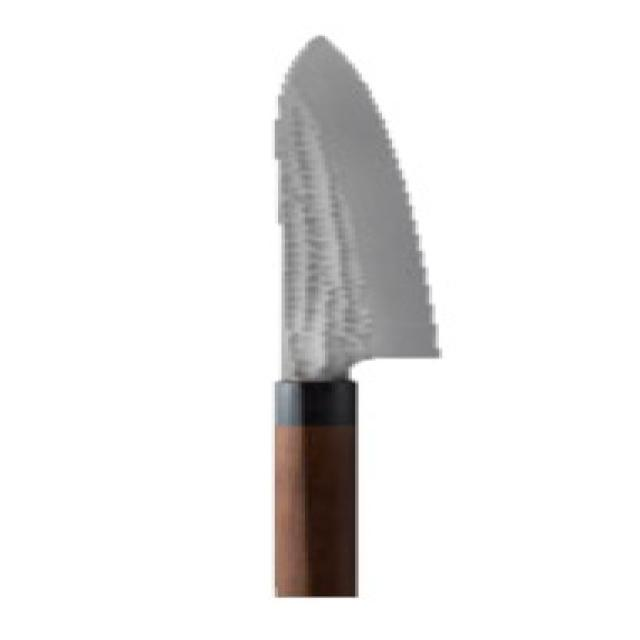knife: (256, 33, 446, 604)
